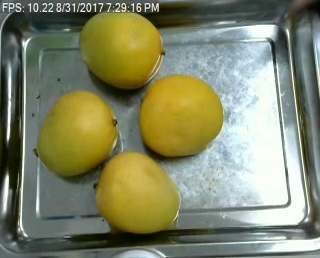Mango: (30, 92, 117, 177), (141, 73, 223, 160), (94, 152, 182, 233), (78, 10, 164, 91)
